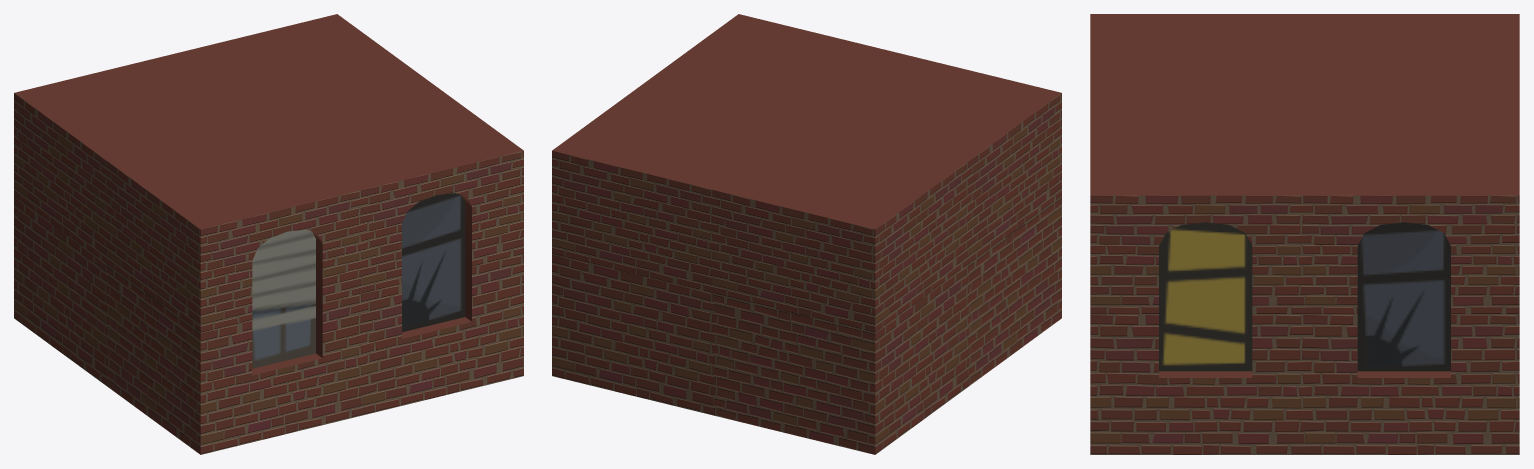
File: Bock_C4.fbx
3 views of the same model, side by side, from view 1: azimuth 30°, elevation 25°; view 2: azimuth 150°, elevation 25°; view 3: azimuth 270°, elevation 25° (orthographic). The views are drawn at different scales.
Parts seen in each view (by area): view 1: Bock_C4; view 2: Bock_C4; view 3: Bock_C4.
Part boxes in pixels (x1,y1,x2,y2): Bock_C4: [14, 14, 523, 454]; Bock_C4: [552, 14, 1061, 454]; Bock_C4: [1090, 14, 1519, 454].
Size of the model in its own units: 600 by 400 by 600.
